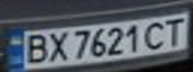1: (121, 21, 145, 53)
2: (106, 24, 127, 56)
6: (87, 25, 109, 58)
7: (69, 27, 90, 60)
B: (18, 32, 51, 65)
C: (139, 18, 172, 50)
T: (157, 15, 190, 46)
X: (42, 29, 72, 63)
